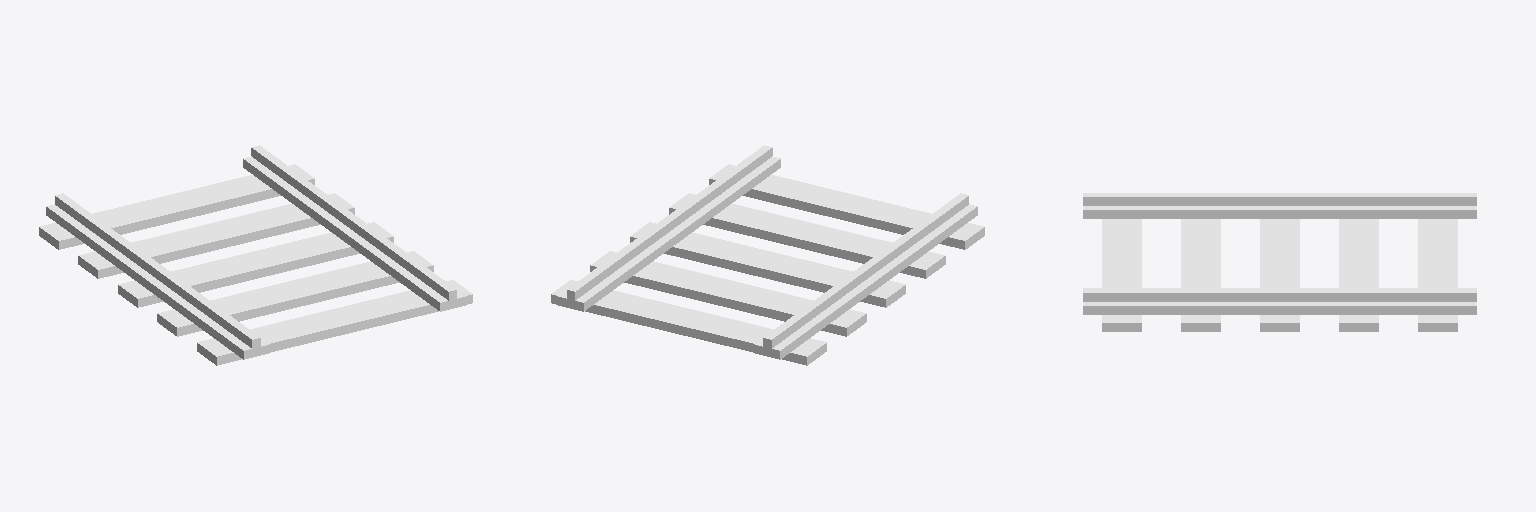
The model's file is SC_Track.obj.
3 renders of one model, left to right at view 1: azimuth 30°, elevation 25°; view 2: azimuth 150°, elevation 25°; view 3: azimuth 270°, elevation 25°, orthographic.
Size of the model in its own units: 30 by 3 by 40.